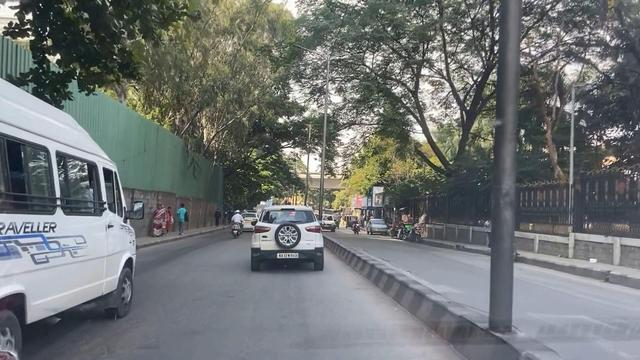HMV: (9, 76, 138, 360)
LMV: (257, 199, 330, 275)
